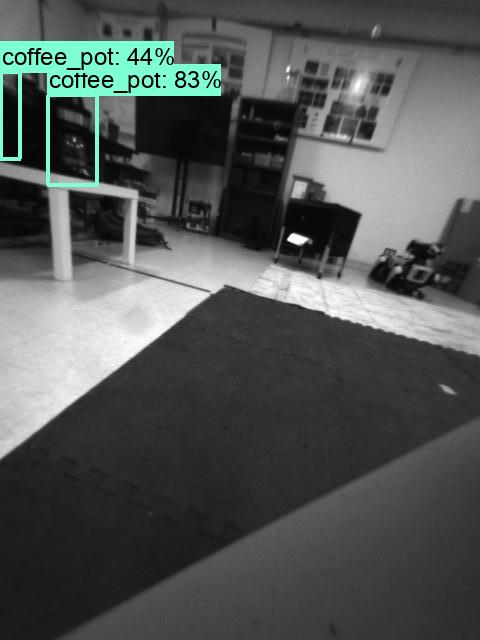coffee_pot: (46, 97, 95, 186)
